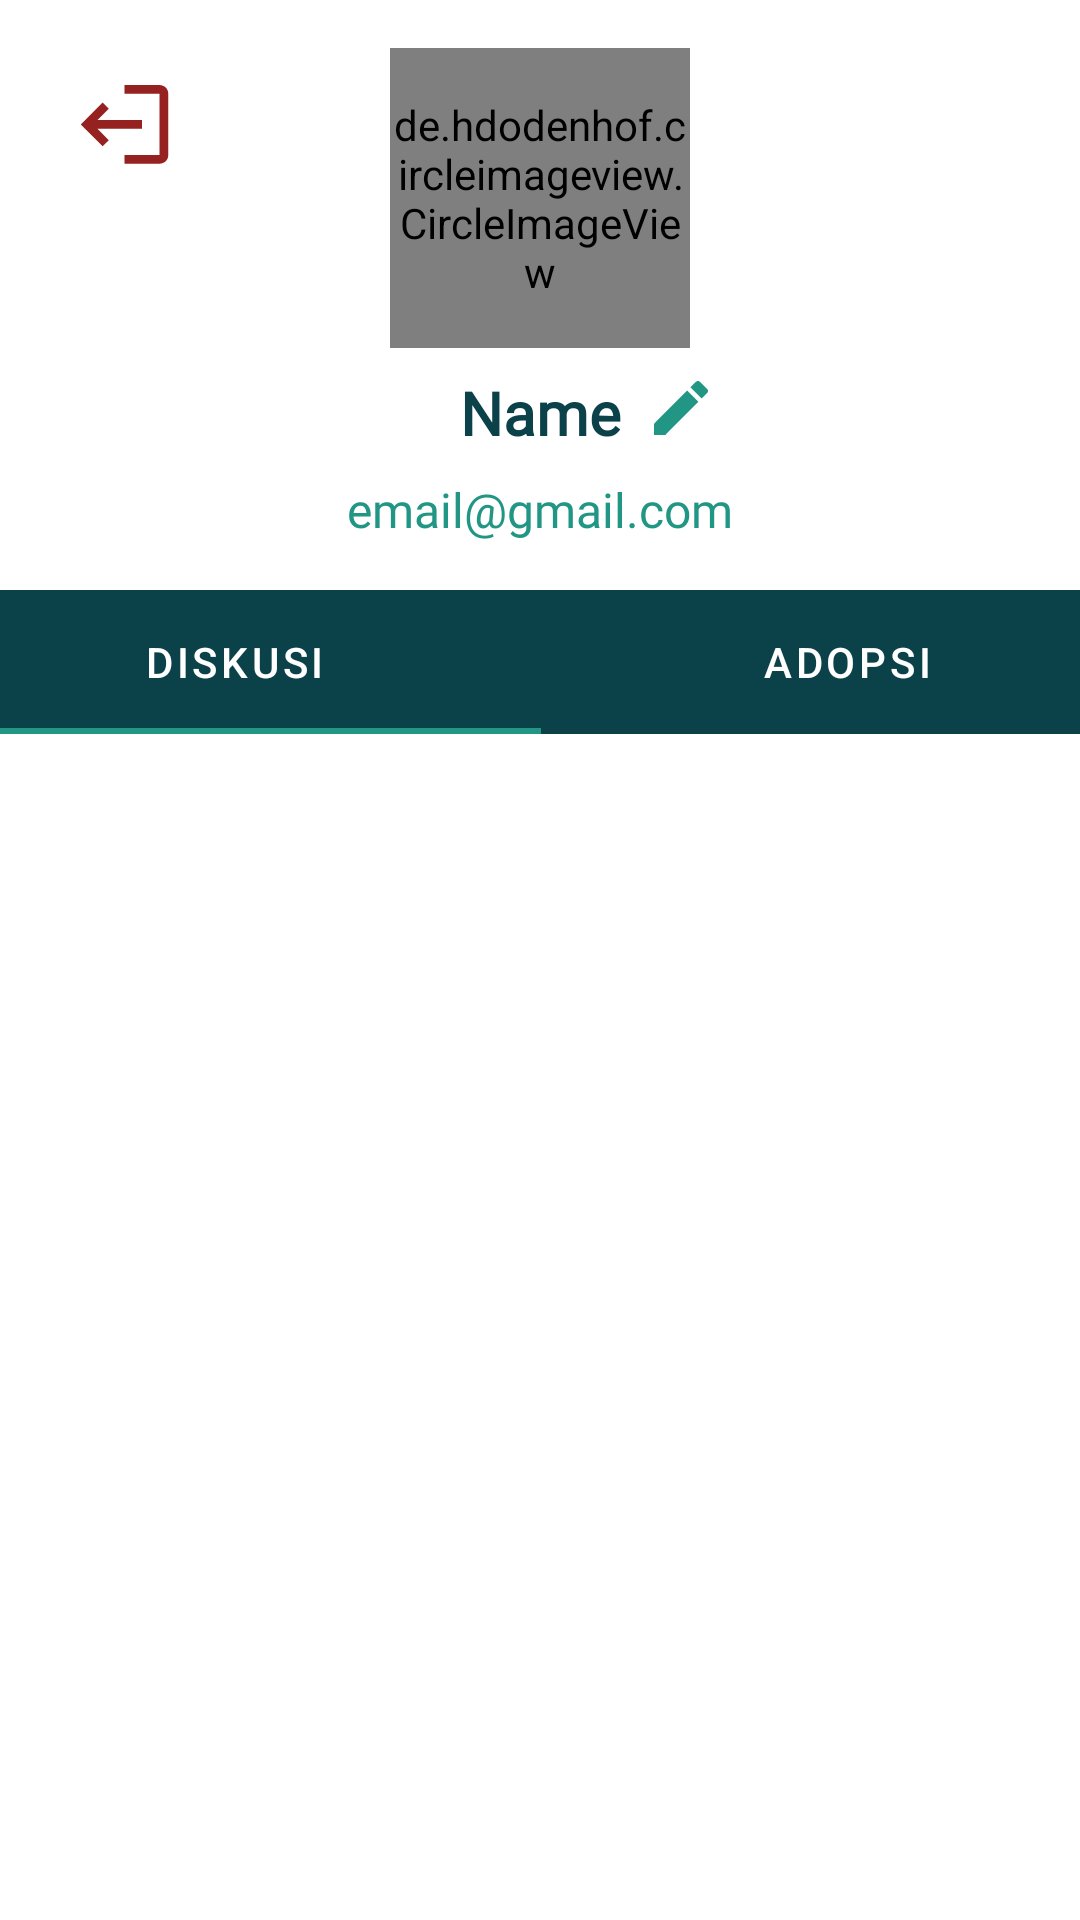

Icon bounding boxes for this 1080px×1920px phone screenshot, format [x1,y1,x2,y2]:
edit: [654,381,708,435]
